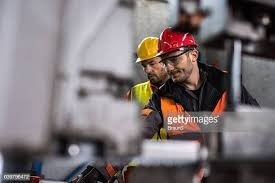helmet: (155, 26, 199, 55), (134, 38, 160, 60)
person with partial safety: (152, 25, 230, 112), (124, 38, 166, 109)
